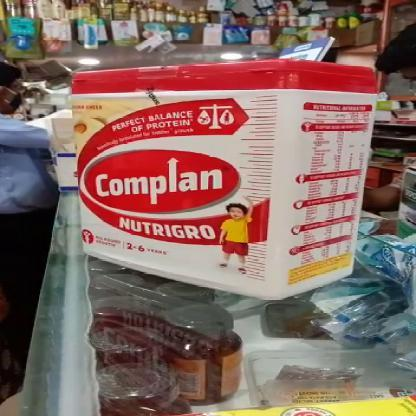Complan Nutrigro Badam Kheer: (73, 66, 368, 278)
